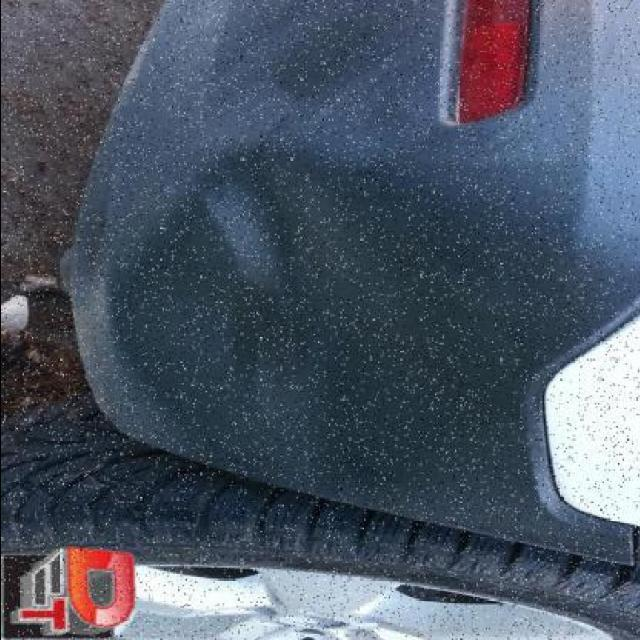rear-bumper-dent: (40, 0, 557, 560)
